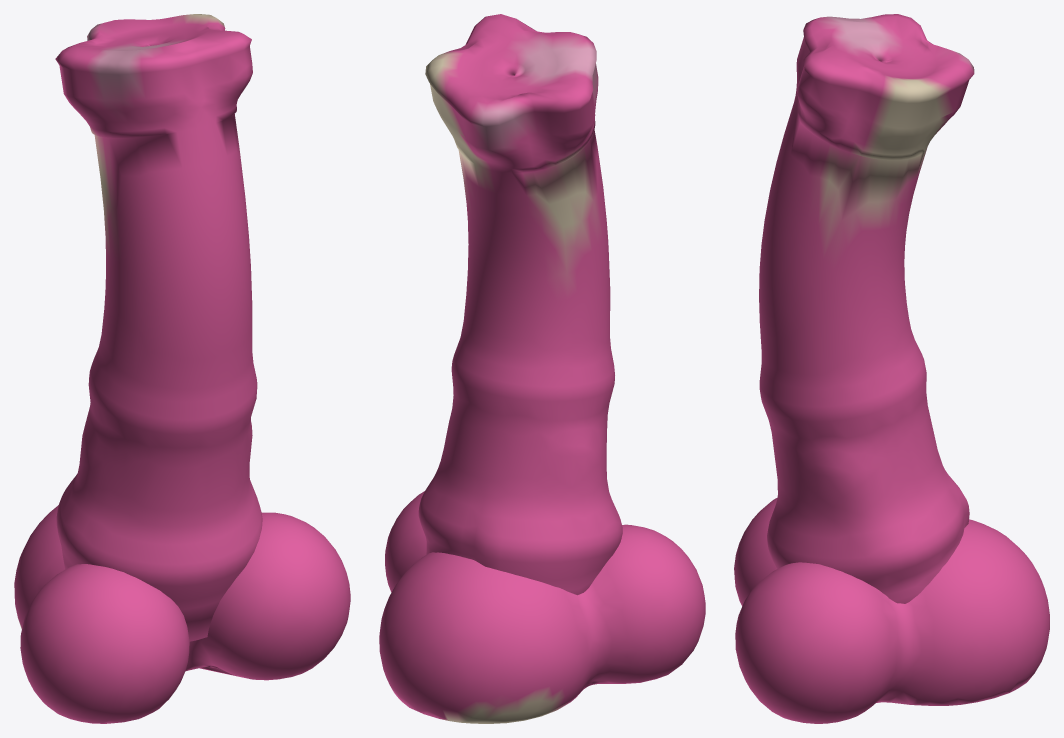
Rendered from chess-knight-lod0.glb.
3 renders of one model, left to right at view 1: azimuth 30°, elevation 25°; view 2: azimuth 150°, elevation 25°; view 3: azimuth 270°, elevation 25°, orthographic. The views are drawn at different scales.
Visible parts, largest first — view 1: knight; view 2: knight; view 3: knight.
Boxes of the visible parts, <box> form: knight: <box>14,14,350,723</box>; knight: <box>379,14,705,723</box>; knight: <box>734,14,1049,723</box>.
Size of the model in its own units: 0.5076 by 1 by 0.4549.
